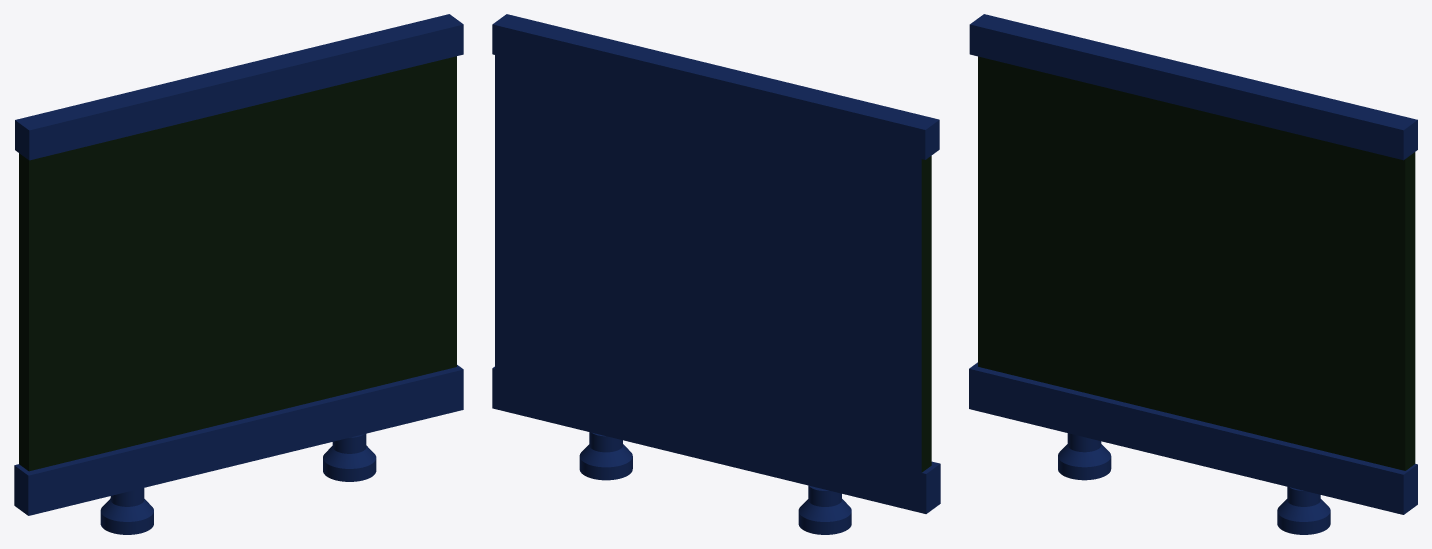
Rendered from Mesh_GreenGym_Base_MP.FBX.
The picture shows the model from 3 angles, left to right: view 1: azimuth 30°, elevation 25°; view 2: azimuth 150°, elevation 25°; view 3: azimuth 330°, elevation 25°; orthographic projection.
Parts seen in each view (by area): view 1: Mesh_GreenGym_Base_MP; view 2: Mesh_GreenGym_Base_MP; view 3: Mesh_GreenGym_Base_MP.
Boxes of the visible parts, <box> form: Mesh_GreenGym_Base_MP: <box>14,14,463,534</box>; Mesh_GreenGym_Base_MP: <box>492,14,940,534</box>; Mesh_GreenGym_Base_MP: <box>969,14,1417,534</box>.
Size of what is drawn, in the model's own units: 179 by 19.87 by 167.
